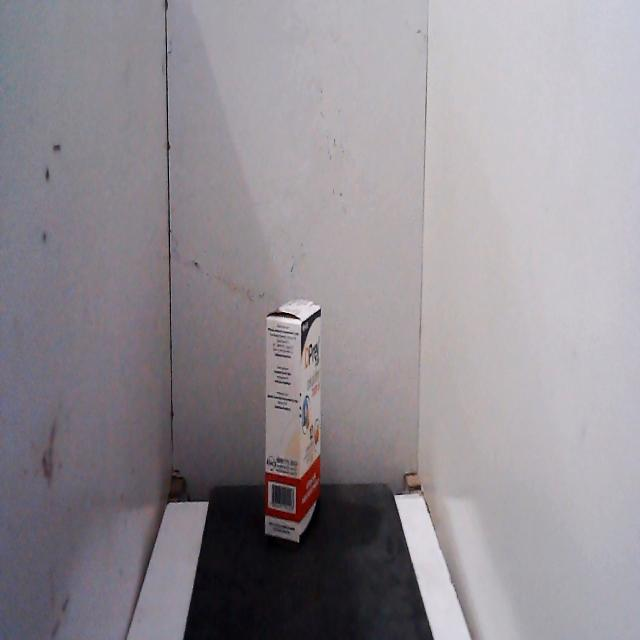papel: (260, 284, 326, 556)
